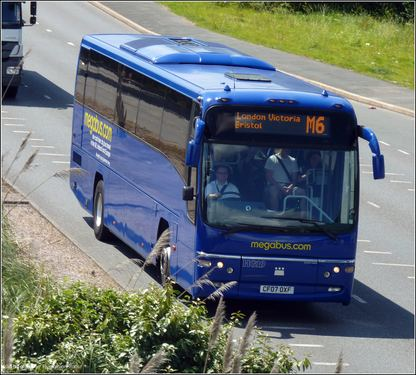bus: (65, 33, 386, 306), (3, 0, 37, 95)
